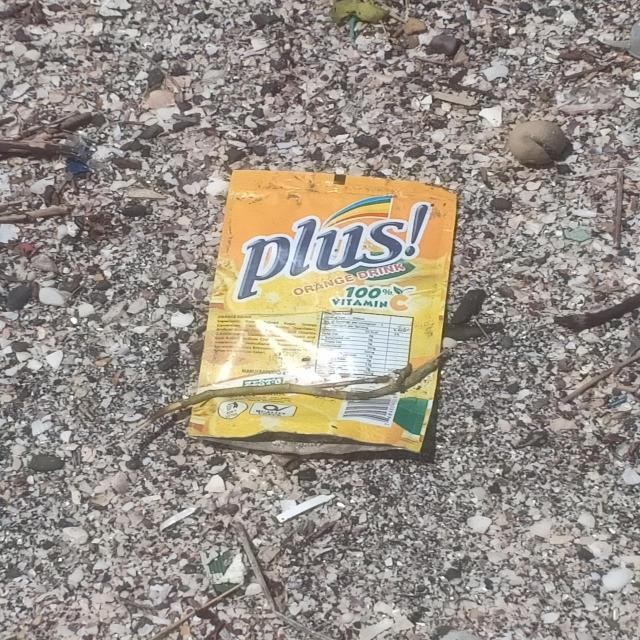litter: (186, 170, 458, 456)
